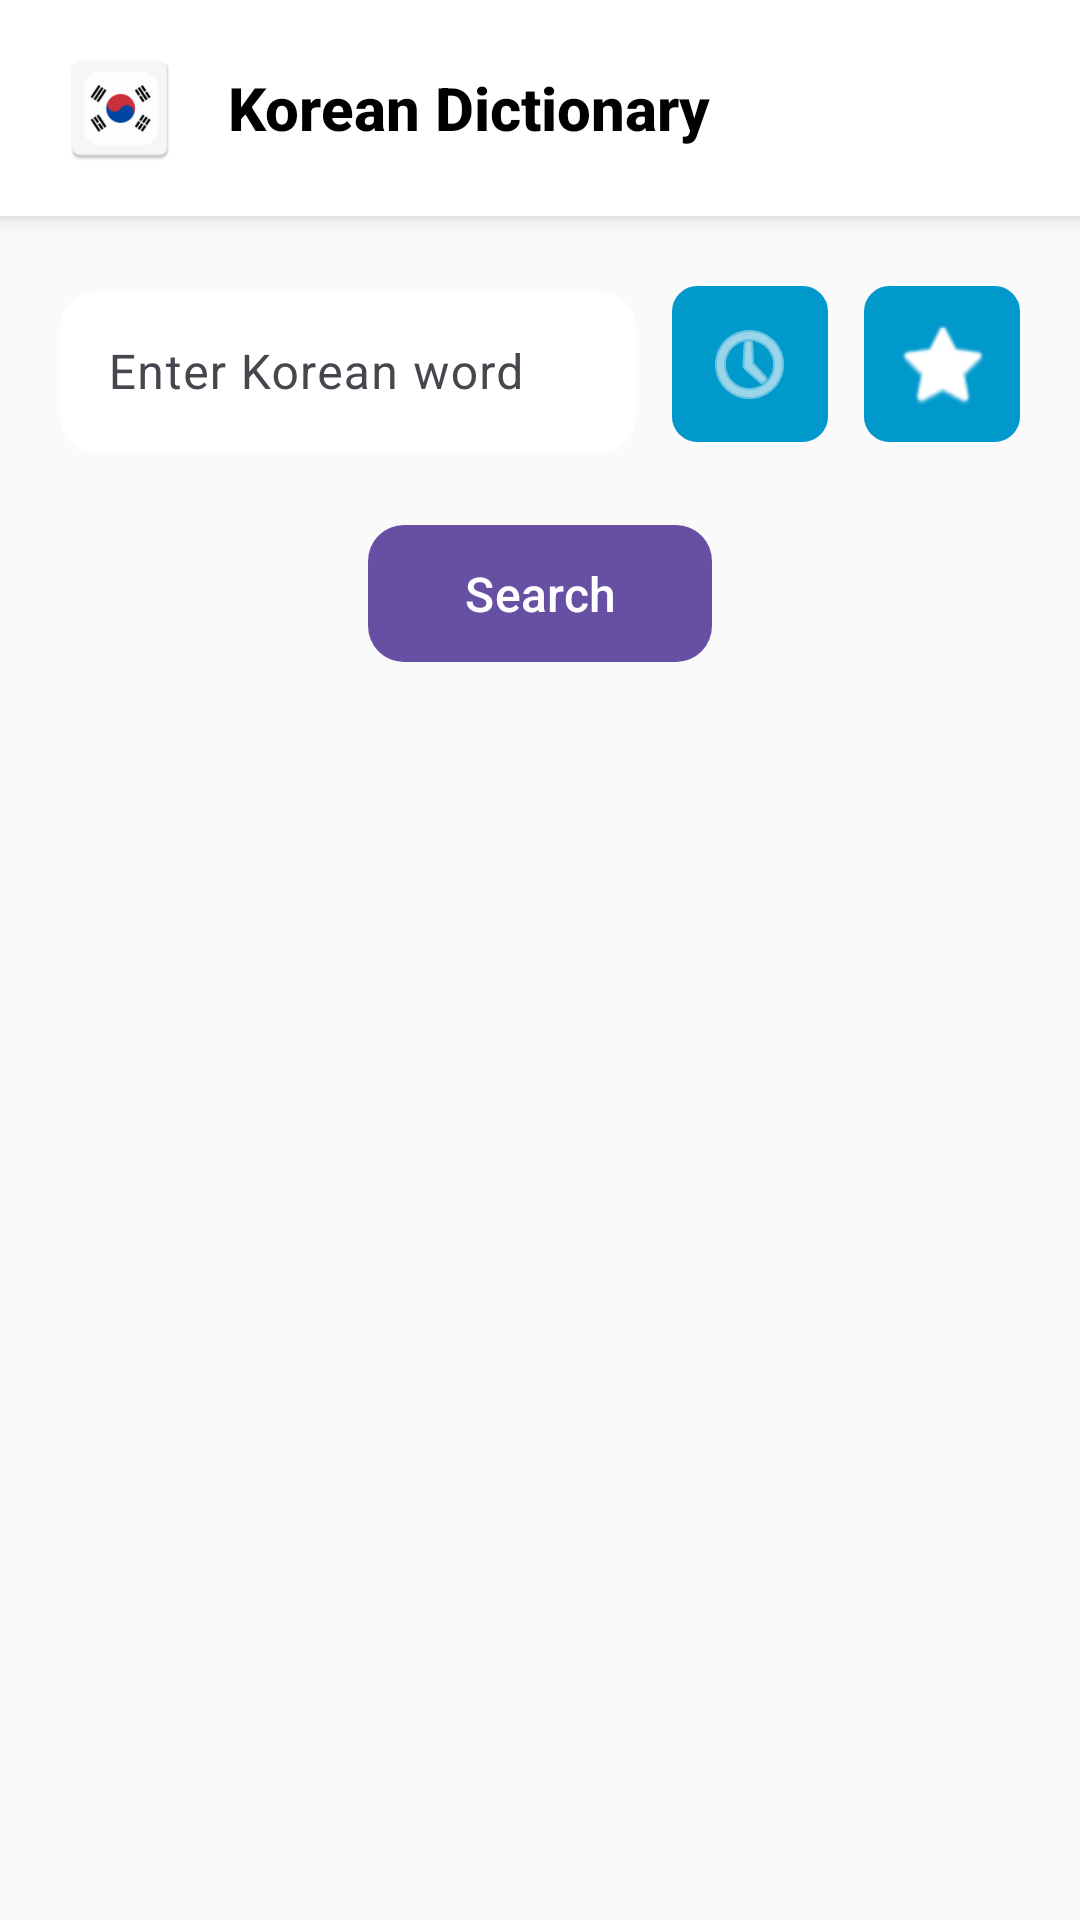

Screen size 1080*1920. Icon name, then its center in pixels as (x,y):
Favorites: (942,364)
